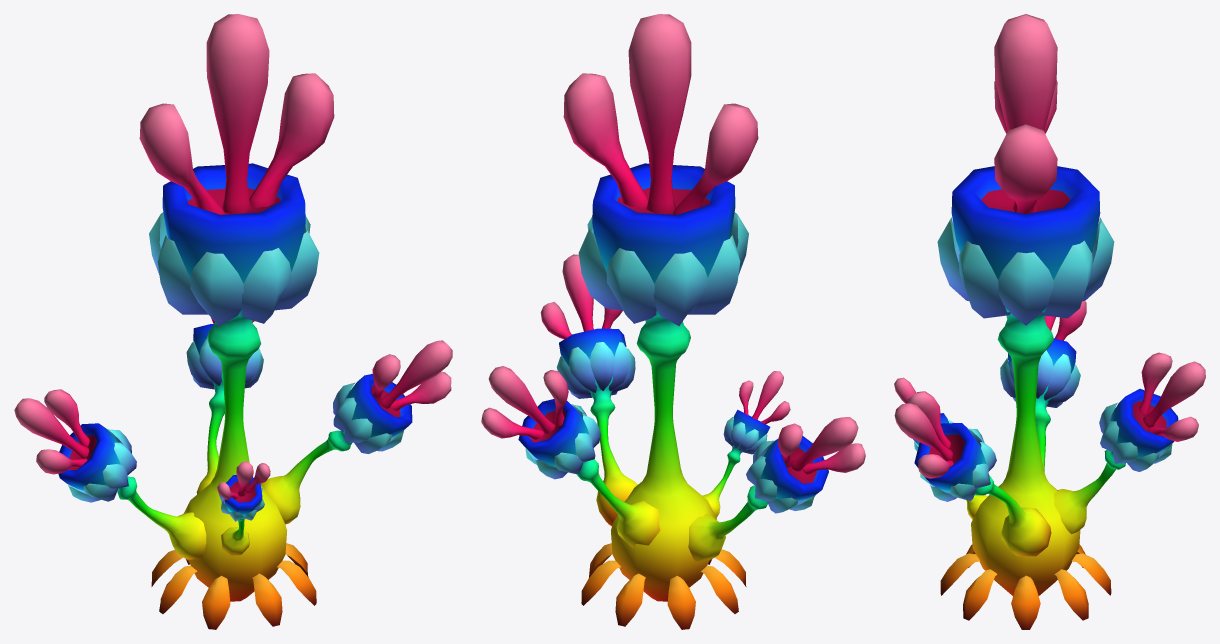
The model's file is wp_noPot_14.fbx.
3 views of the same model, side by side, from view 1: azimuth 30°, elevation 25°; view 2: azimuth 150°, elevation 25°; view 3: azimuth 270°, elevation 25° (orthographic).
Parts seen in each view (by area): view 1: w_pl14.003; view 2: w_pl14.003; view 3: w_pl14.003.
Part boxes in pixels (x1,y1,x2,y2): w_pl14.003: (14, 14, 452, 629); w_pl14.003: (481, 14, 865, 629); w_pl14.003: (894, 14, 1205, 629).
Bounding box in the file's own units: 141 × 209 × 101.
